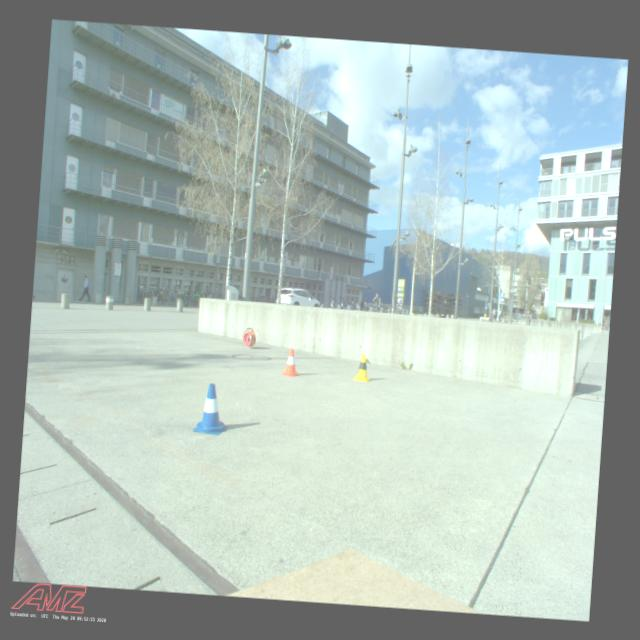blue_cone: (192, 381, 230, 435)
orange_cone: (280, 347, 302, 377)
yellow_cone: (352, 352, 373, 382)
